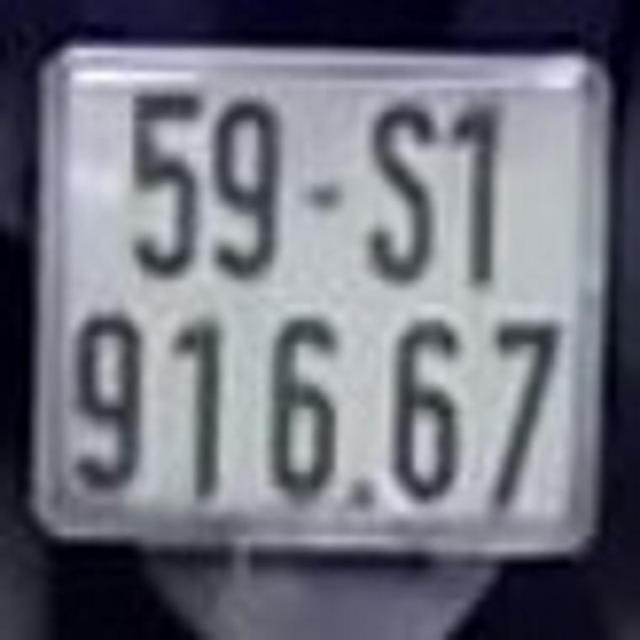1: (160, 290, 241, 504), (444, 88, 522, 292)
5: (120, 62, 203, 286)
6: (258, 286, 348, 492), (396, 304, 468, 506)
7: (486, 307, 567, 511)
9: (210, 83, 292, 304), (64, 298, 154, 489)
S: (362, 81, 441, 280)
